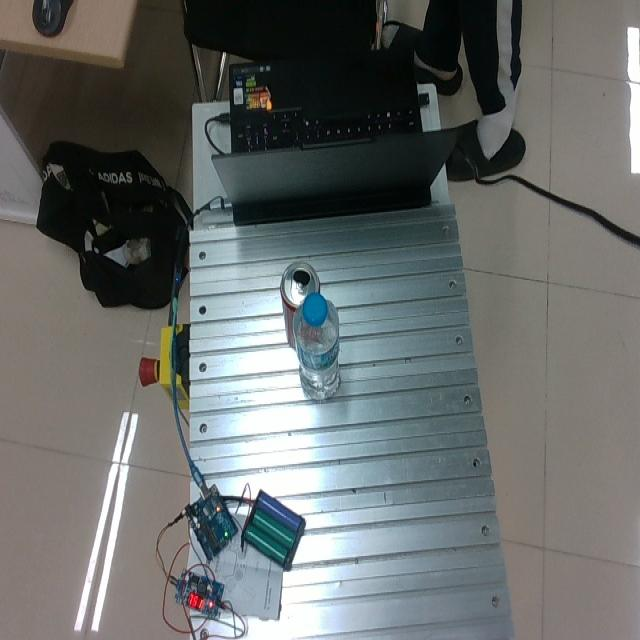coca: (279, 260, 320, 353)
lavie: (292, 291, 340, 400)
